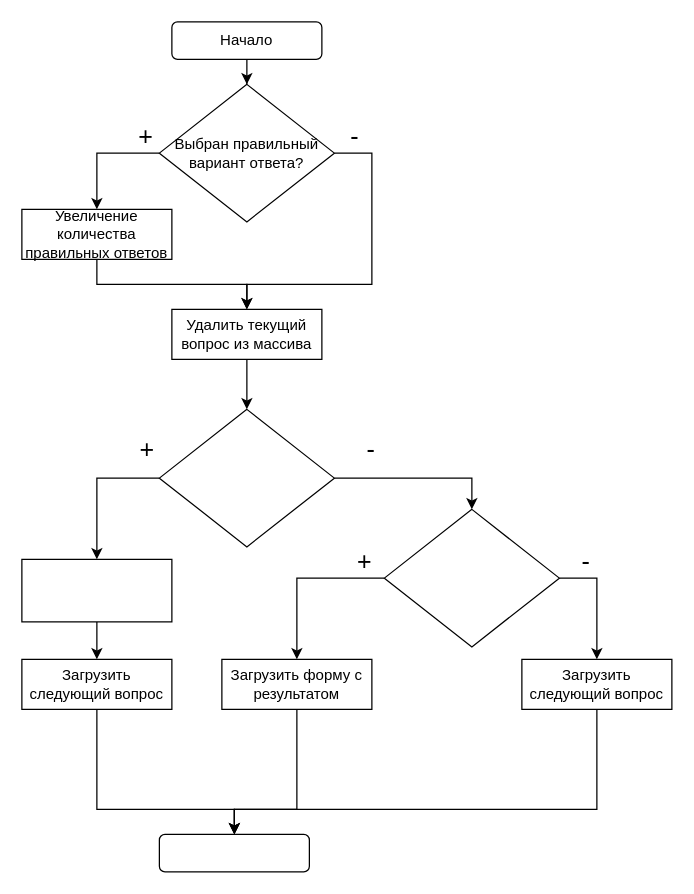
Image size: 694x894. Some labels were removed from this diagram. Here are the shapes that lost their labels. From the top down, the box of each, then its label:
(158, 408, 334, 547): Количество оставшихся вопросов = 1?
(21, 558, 172, 622): Заменить "Следующий вопрос" на "Результат"
(383, 508, 559, 647): Количество оставшихся вопросов = 0?
(158, 833, 309, 872): Конец
